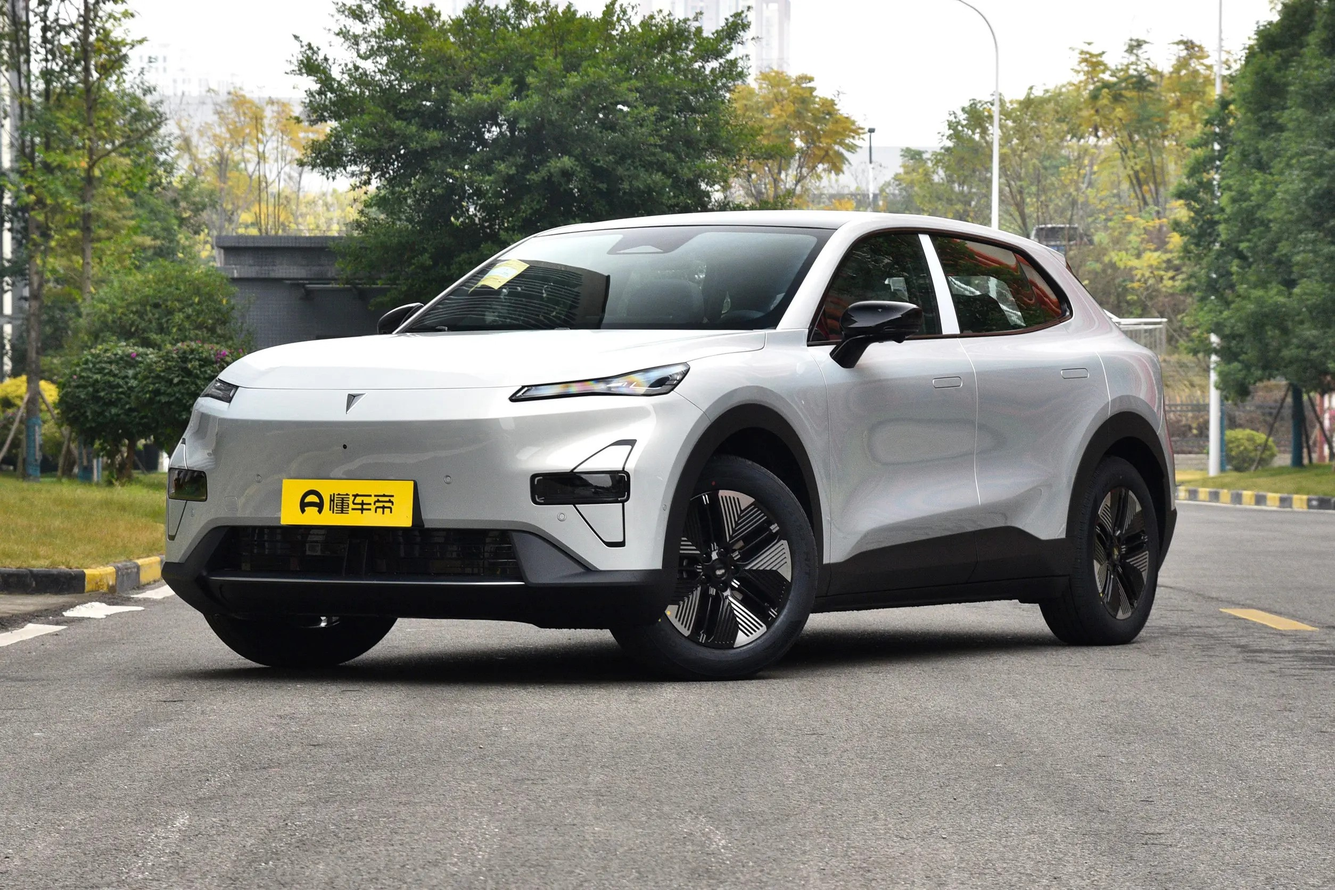Deepal: (346, 393, 367, 413)
